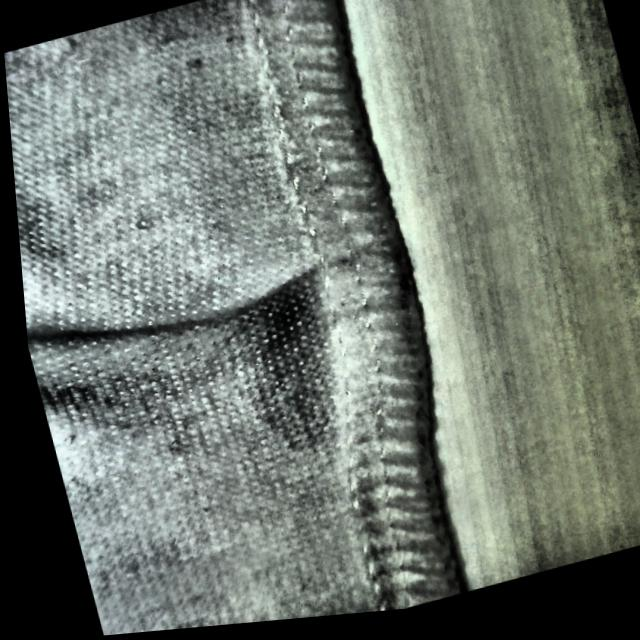seam: (66, 198, 427, 432)
